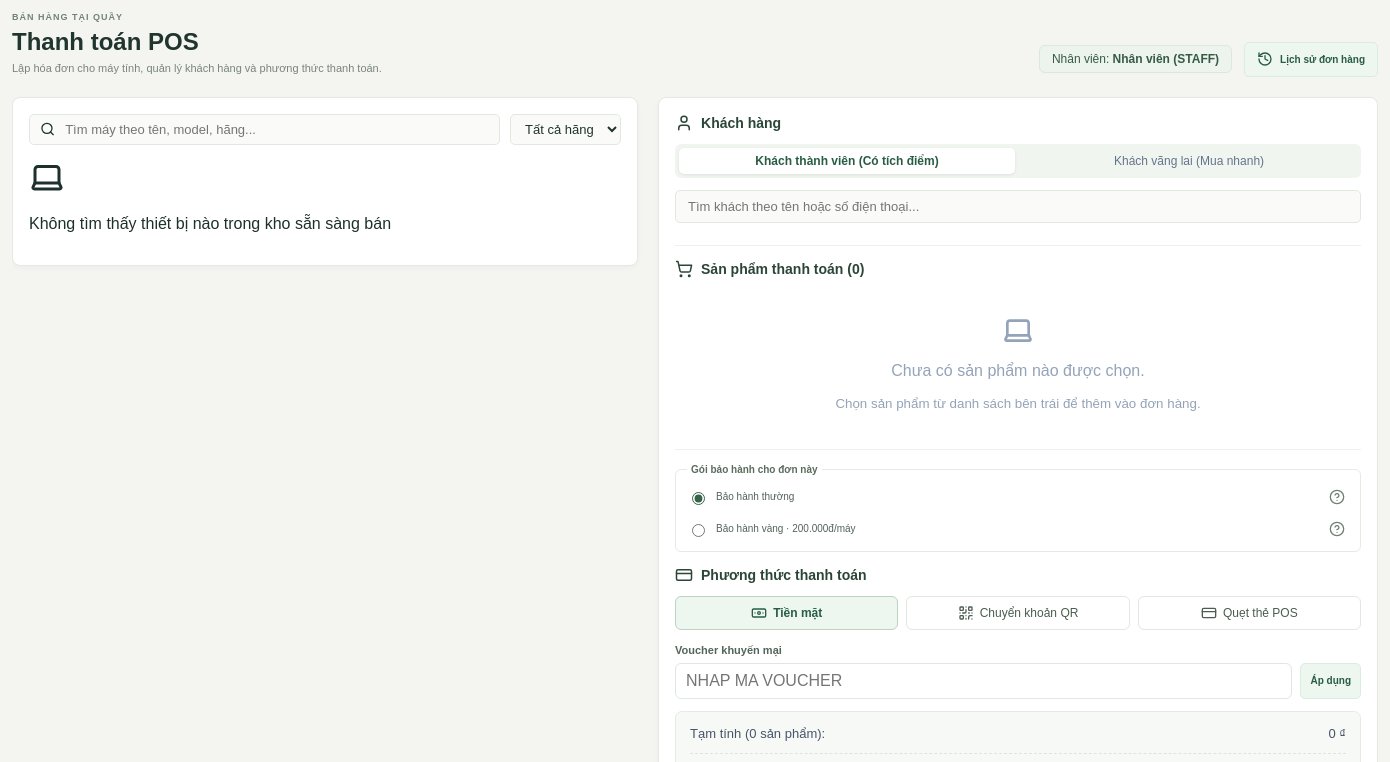
Test: CheckoutView product quantities › suggests matching customers while entering a phone number
Type "090" into the field named "Tìm khách hàng thành viên" at coordinates (1018, 206), box [675,190,1361,222]
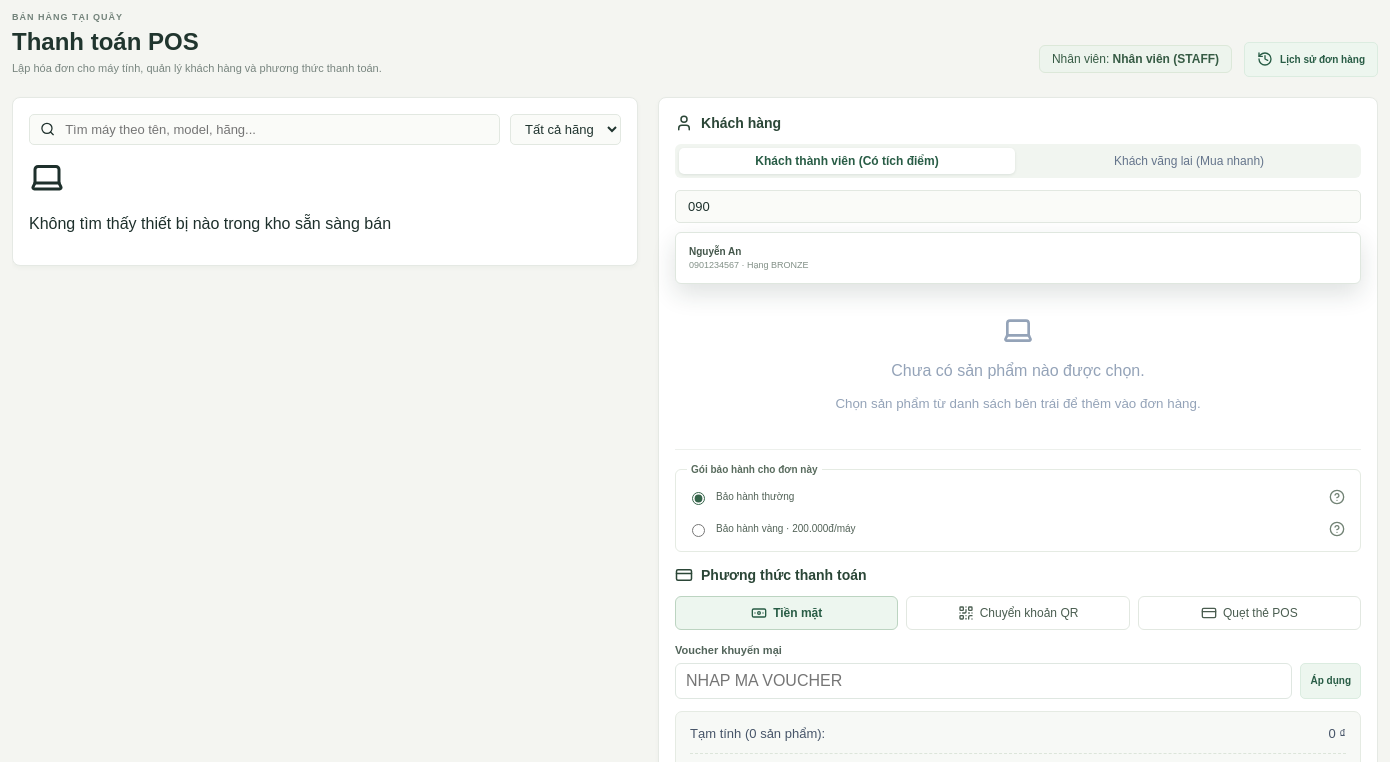
Click the option "Nguyễn An 0901234567 · Hạng BRONZE" at coordinates (715, 251), box [680,236,1356,278]
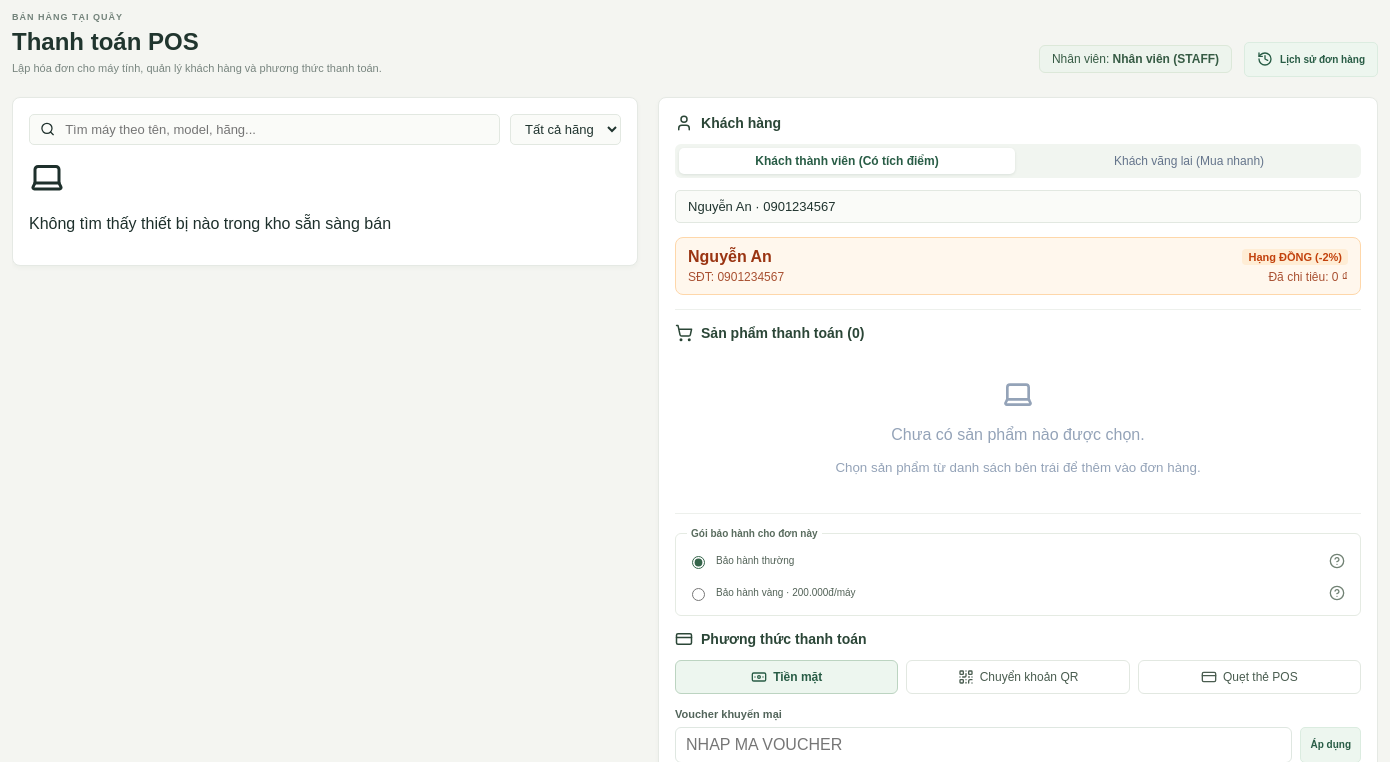
Expected: the text "Nguyễn An" is shown, [688,248,772,266]
Expected: the text "SĐT: 0901234567" is shown, [688,270,784,284]
